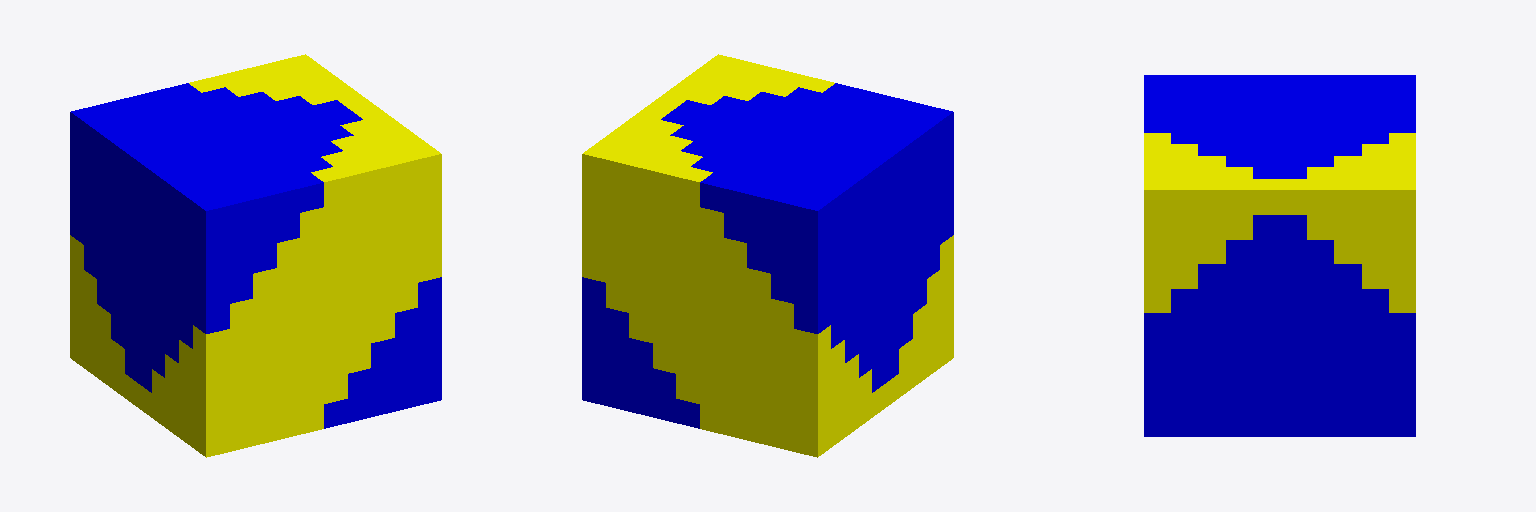
3 views of the same model, side by side, from view 1: azimuth 30°, elevation 25°; view 2: azimuth 150°, elevation 25°; view 3: azimuth 270°, elevation 25° (orthographic).
Visible parts, largest first — view 1: object 1; view 2: object 1; view 3: object 1.
Part boxes in pixels (bbox=[...]): object 1: bbox=[70, 54, 441, 457]; object 1: bbox=[582, 54, 953, 457]; object 1: bbox=[1144, 75, 1415, 436].
Bounding box in the file's own units: 1 × 1 × 1.
1 materials, 1 textured.